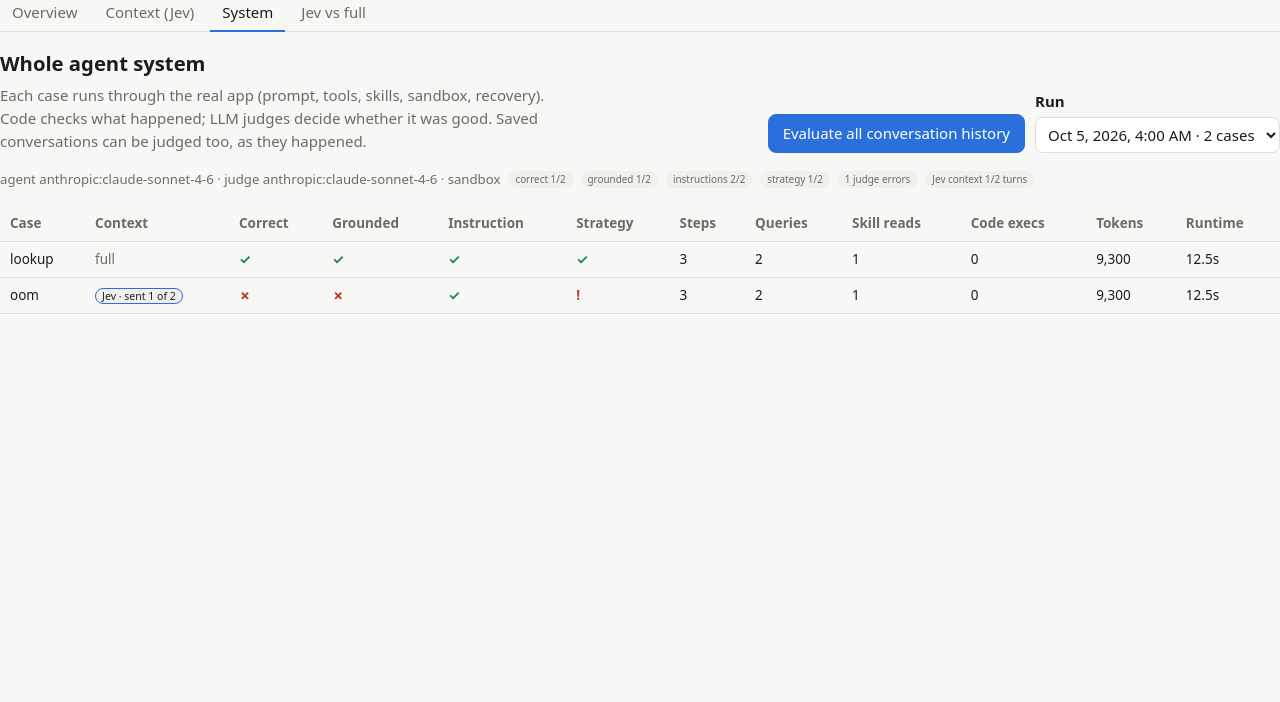
Test: System eval › shows recovery, out-of-memory and unsupported claims
The width and height of the screenshot is (1280, 702).
Click the row "oom Jev · sent 1 of 2 ✗ ✗ ✓ ! 3 2 1 0 9,300 12.5s" at (640, 295), box x1=0 y1=277 x2=1279 y2=313
(page scrolled)
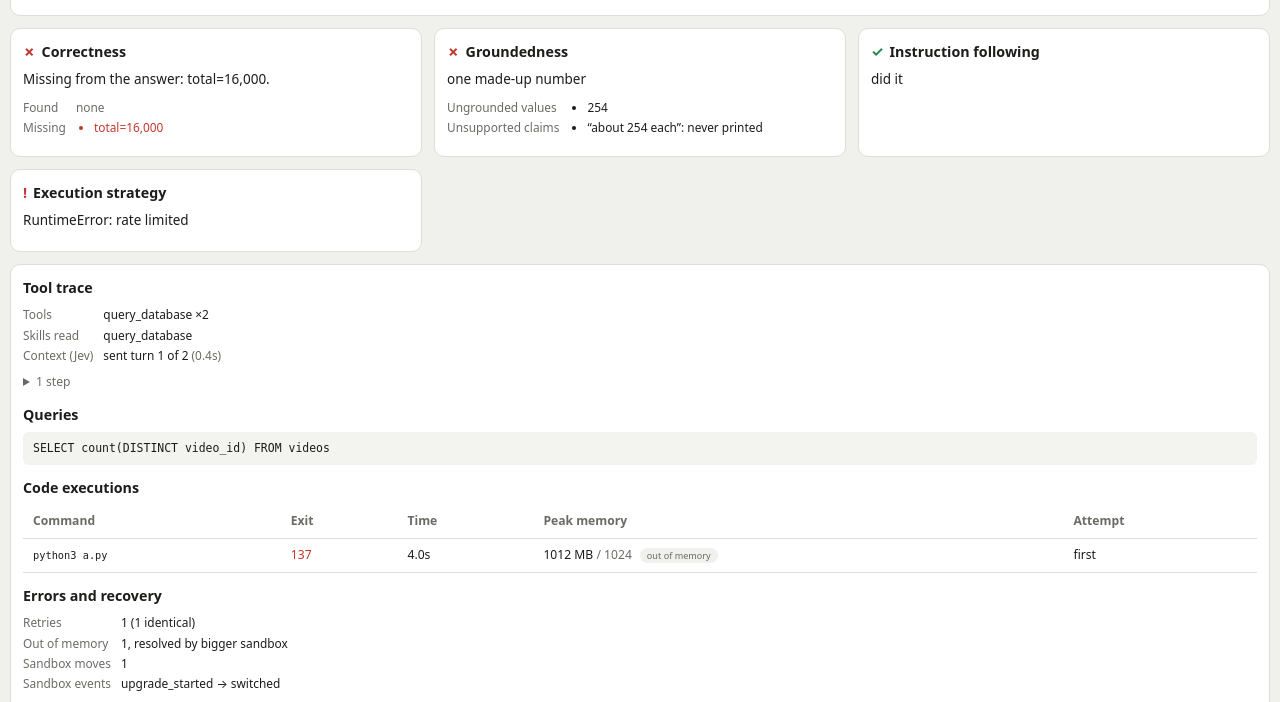
Check: the list item "“about 254 each”: never printed" is shown, box x1=587 y1=119 x2=763 y2=135
Check: the text "out of memory" is shown, box x1=640 y1=548 x2=718 y2=563
Check: the text "1, resolved by bigger sandbox" is shown, box x1=121 y1=635 x2=288 y2=651
